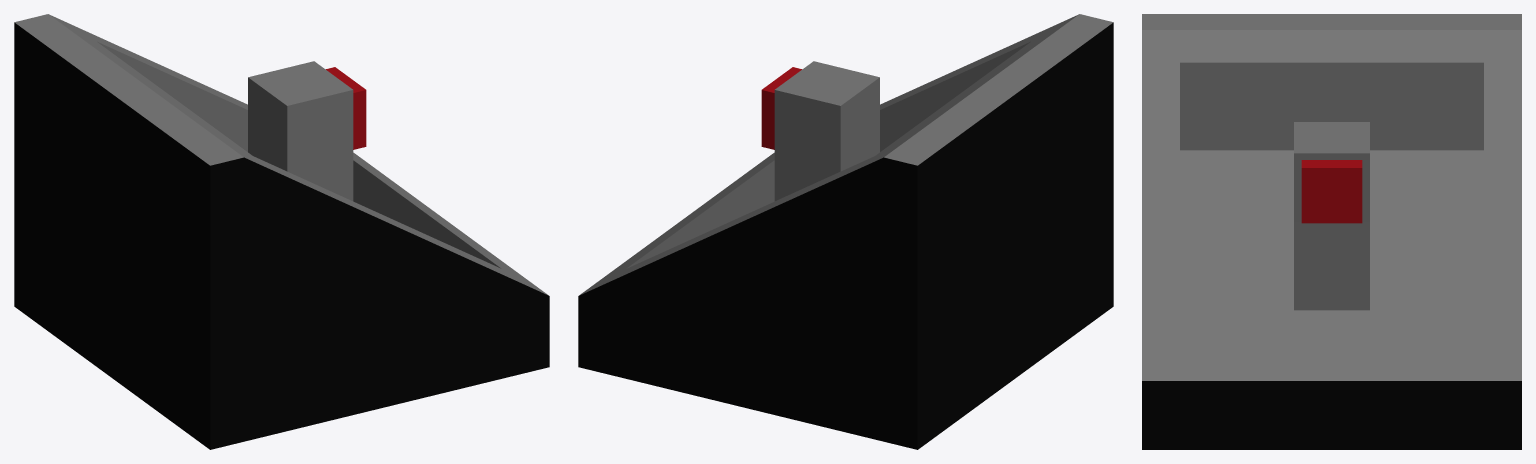
File: Button.fbx
The picture shows the model from 3 angles, left to right: view 1: azimuth 30°, elevation 25°; view 2: azimuth 150°, elevation 25°; view 3: azimuth 270°, elevation 25°; orthographic projection. The views are drawn at different scales.
Visible parts, largest first — view 1: Box001; view 2: Box001; view 3: Box001.
Boxes of the visible parts, <box> form: Box001: <box>14,14,549,449</box>; Box001: <box>578,14,1113,449</box>; Box001: <box>1142,14,1521,449</box>.
Size of the model in its own units: 39.37 by 31.5 by 39.37.
